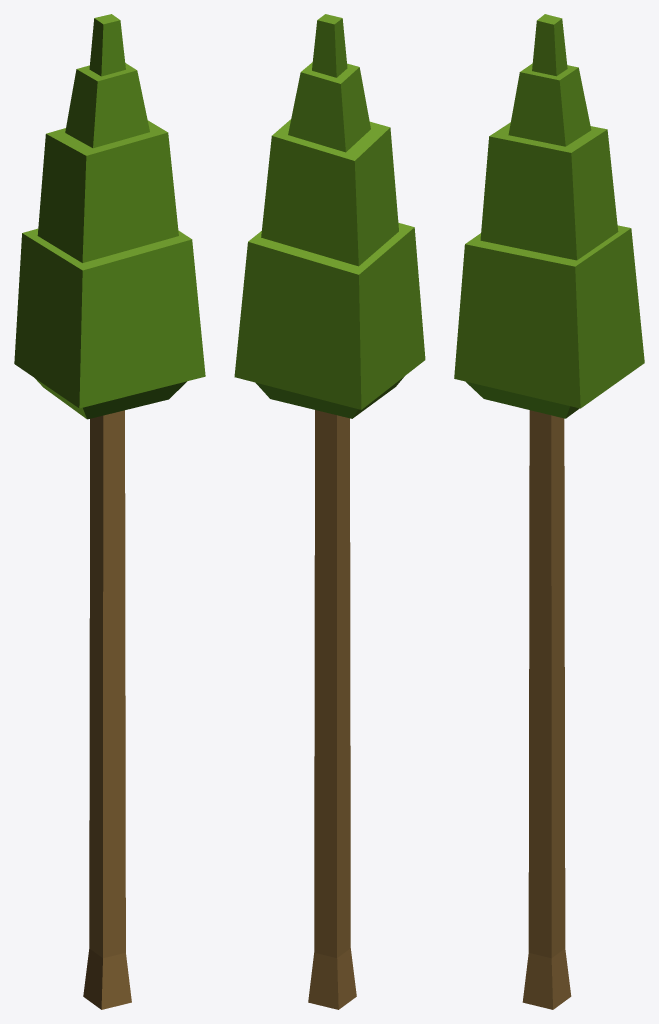
File: SF_Env_Tree_013.fbx
3 renders of one model, left to right at view 1: azimuth 30°, elevation 25°; view 2: azimuth 150°, elevation 25°; view 3: azimuth 330°, elevation 25°, orthographic.
Parts seen in each view (by area): view 1: SF_Env_Tree_013; view 2: SF_Env_Tree_013; view 3: SF_Env_Tree_013.
Part boxes in pixels (x1,y1,x2,y2): SF_Env_Tree_013: (14,14,205,1009); SF_Env_Tree_013: (234,14,425,1009); SF_Env_Tree_013: (454,14,644,1009).
Size of the model in its own units: 3.25 by 23.93 by 2.86.
